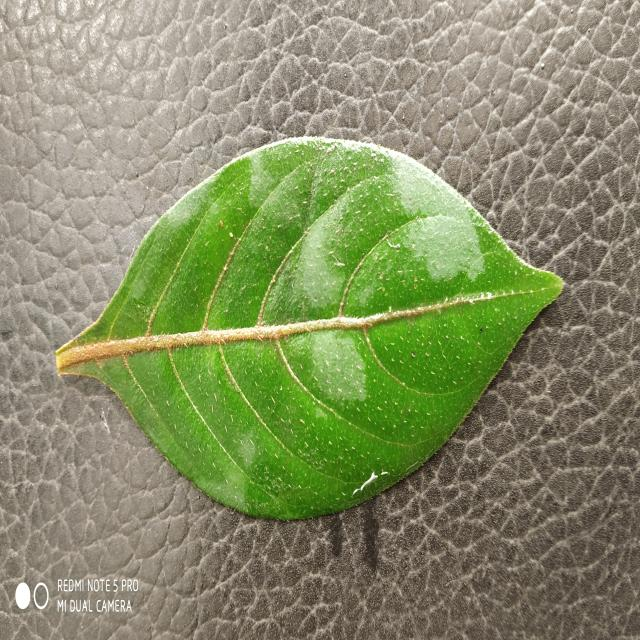ganike: (56, 138, 562, 520)
